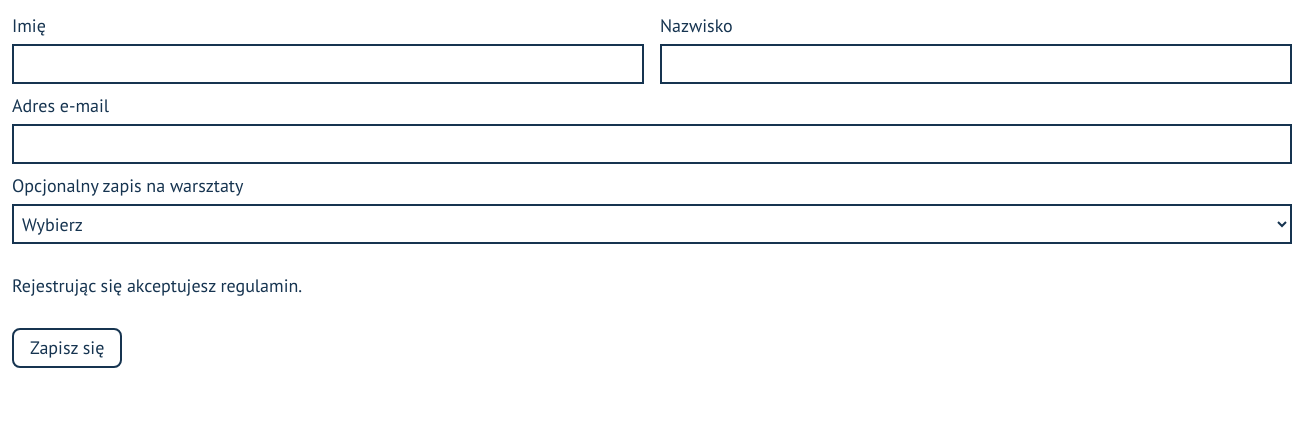
Test: <RegistrationForm /> › displays not valid email message
The width and height of the screenshot is (1304, 441).
Type "jankowalski.com" into the field labelled "Adres e-mail".
click(652, 144); type("jankowalski.com")  # box left=12, top=124, right=1292, bottom=164
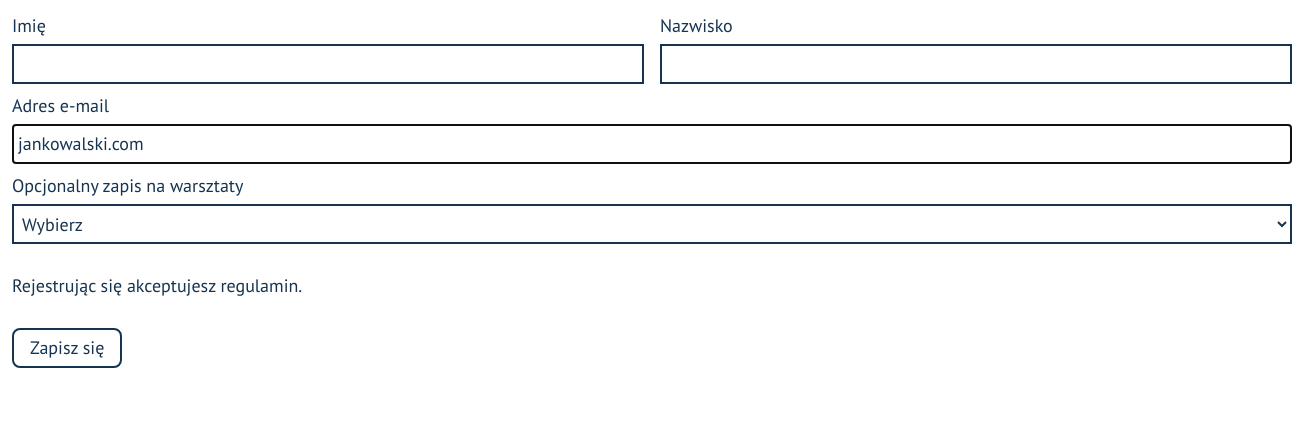
Click the button "Zapisz się".
click(67, 348)  # box left=12, top=328, right=122, bottom=368
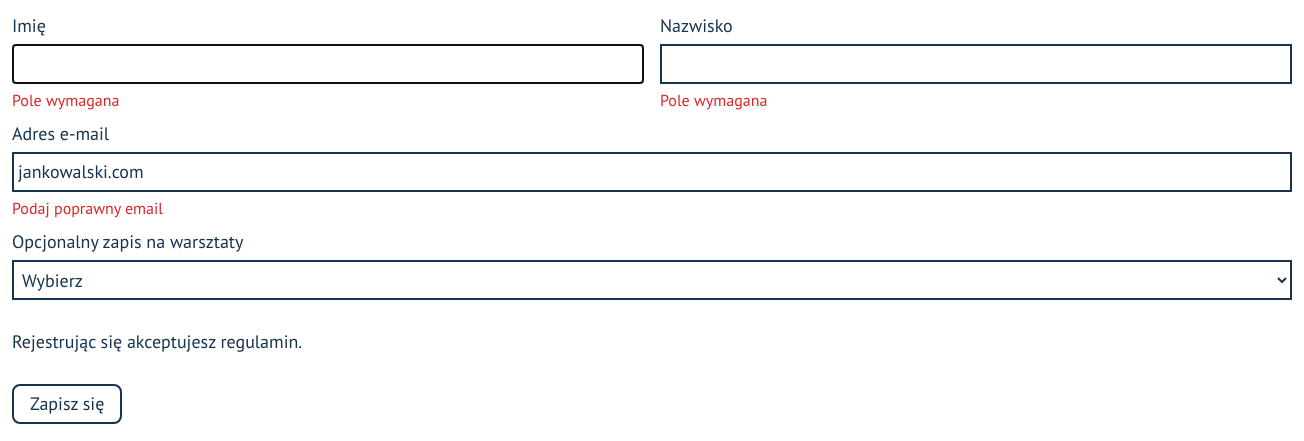
Now the text "Podaj poprawny email" is shown once, box left=12, top=198, right=163, bottom=218
